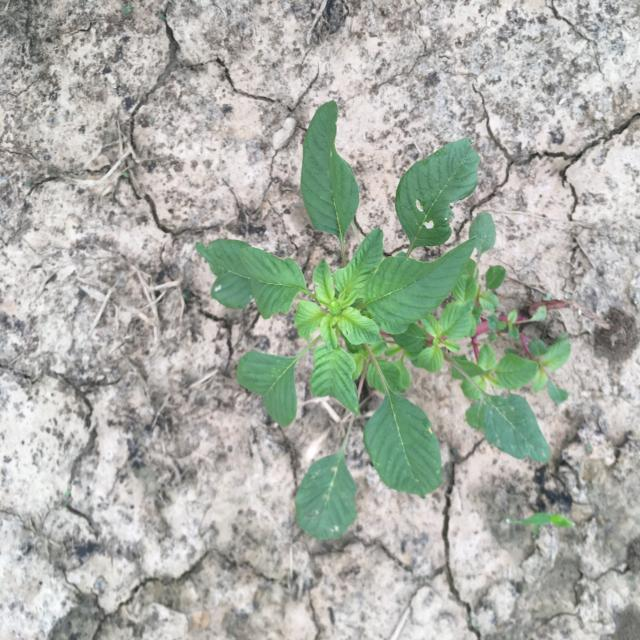PalmerAmaranth: (197, 100, 572, 541)
